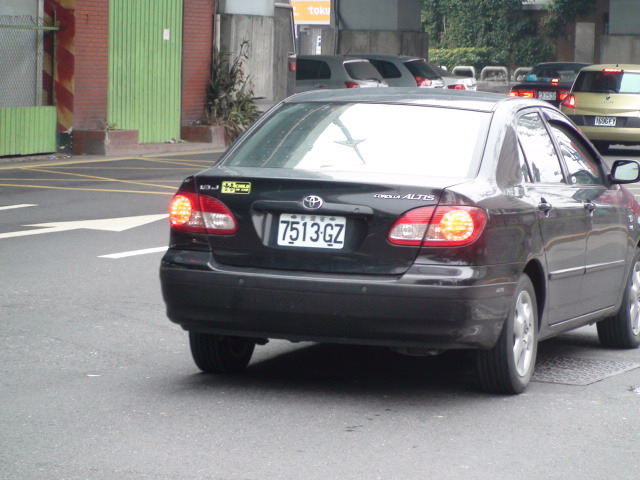plate: (275, 209, 351, 253)
